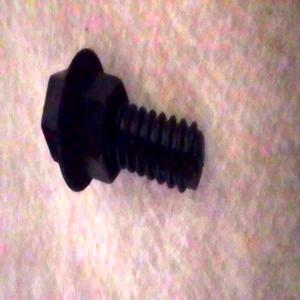parafuso: (38, 45, 213, 209)
